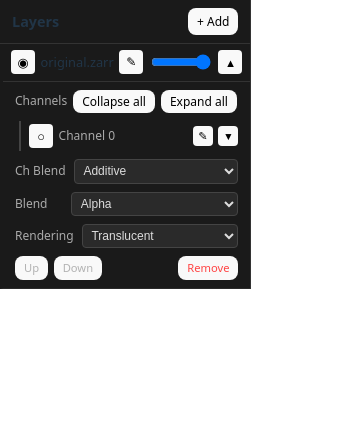
Test case: LayerPanel per-channel collapse › shows controls for an expanded channel even when it is hidden (gate is expanded, not visible)
This screenshot has width=356, height=431.
Click the button named "Expand channel Channel 0".
click(228, 136)  # box 218,126 -> 238,146
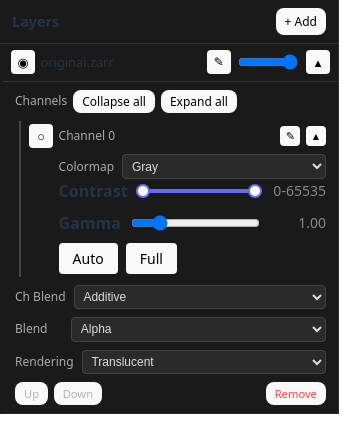
Expected: the dropdown named "original.zarr Channel 0 colormap" is shown, 122,154 -> 326,179
